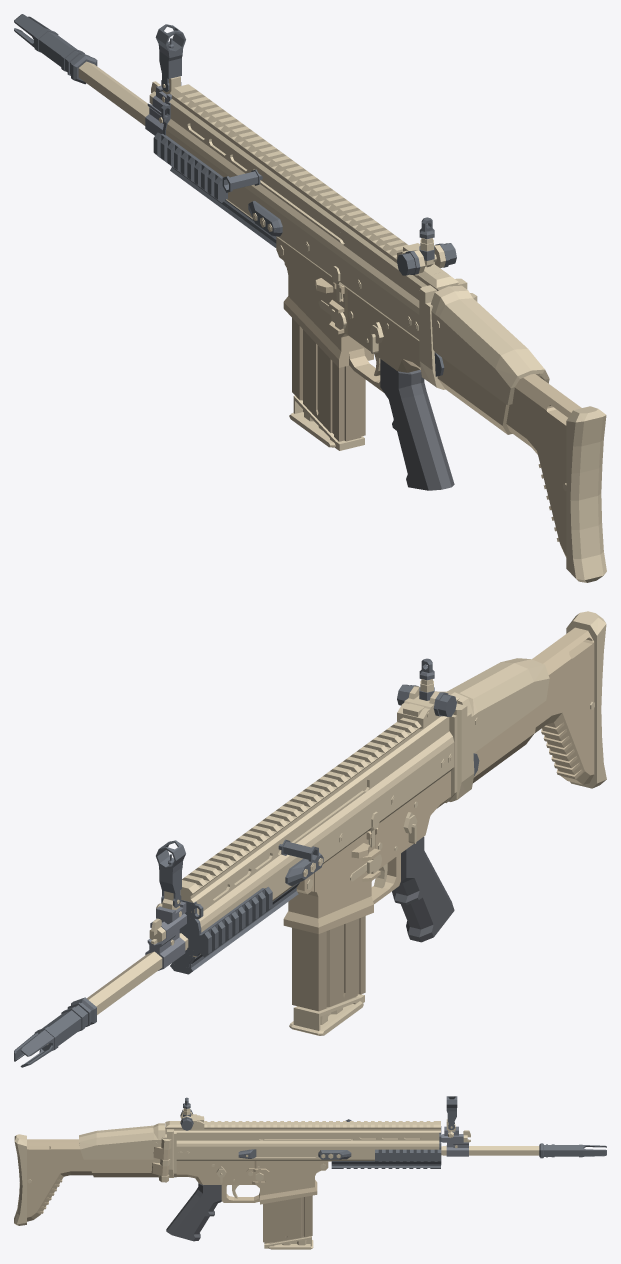
Rendered from scarh.glb.
The picture shows the model from 3 angles, top to bottom: view 1: azimuth 30°, elevation 25°; view 2: azimuth 150°, elevation 25°; view 3: azimuth 270°, elevation 25°; orthographic projection. The views are drawn at different scales.
Visible parts, largest first — view 1: SCAR_H_Body; view 2: SCAR_H_Body; view 3: SCAR_H_Body.
Boxes of the visible parts, x1,y1,x2,y2 form: SCAR_H_Body: [14, 14, 606, 582]; SCAR_H_Body: [14, 611, 606, 1067]; SCAR_H_Body: [14, 1096, 606, 1249].
Size of the model in its own units: 0.0643 by 0.2436 by 0.88.
